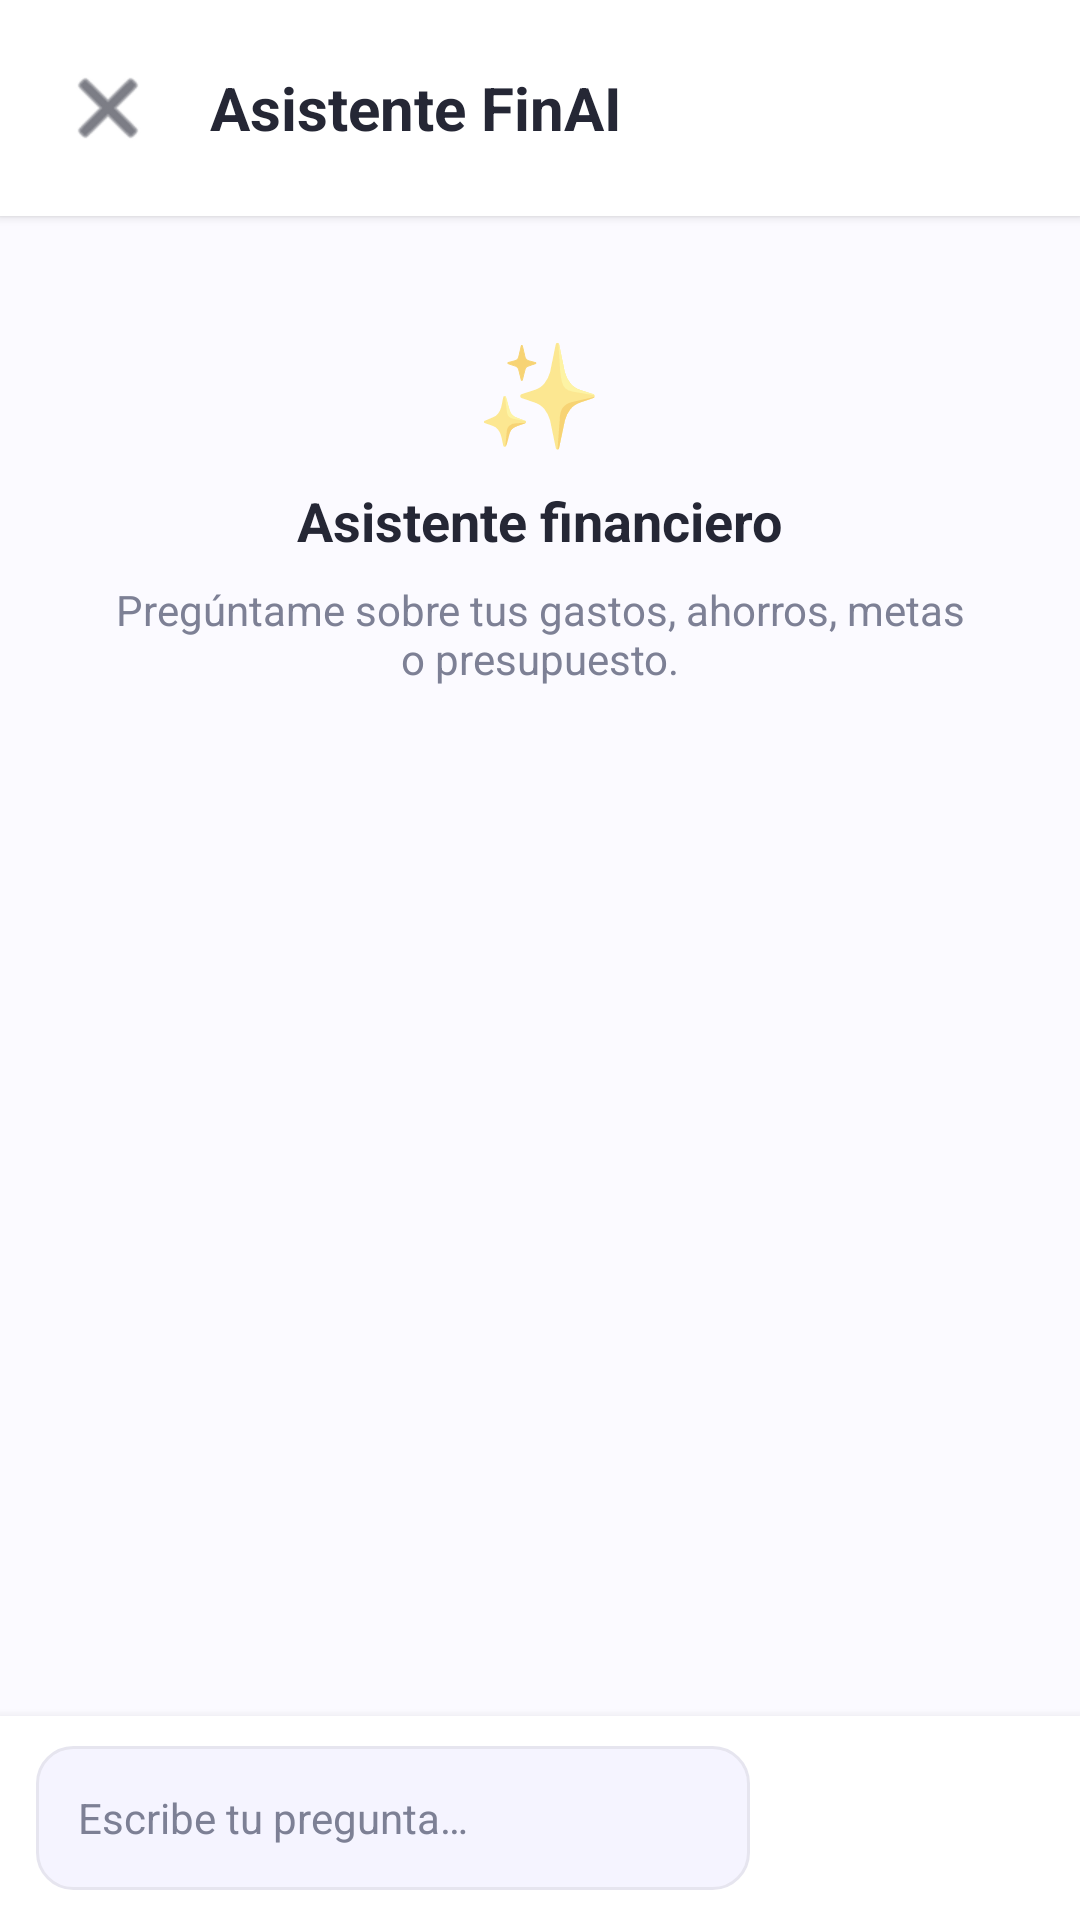

Named icons in this screenshot (1080*1920) and their bounding boxes, rect(x1, y1, x2, y2):
Volver: rect(78, 78, 138, 138)
